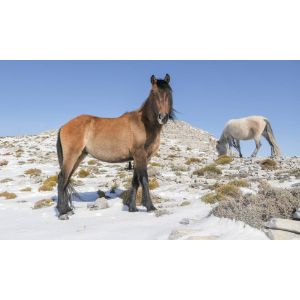horse: (48, 72, 176, 219), (212, 114, 283, 161)
